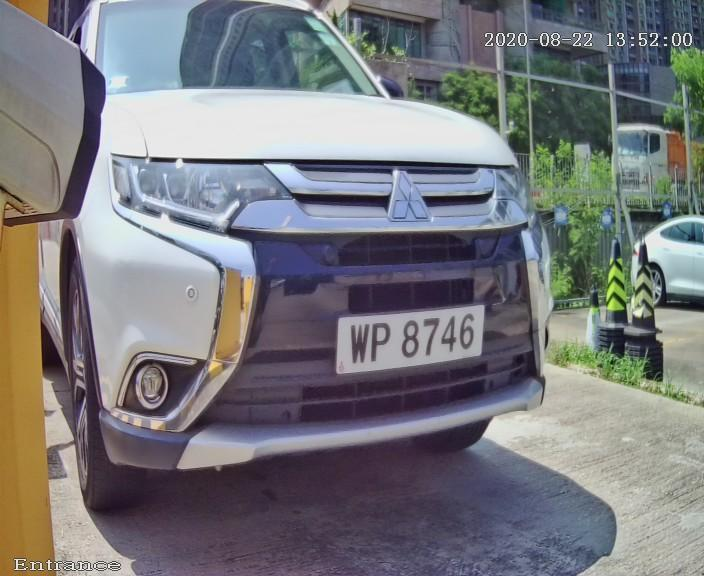Car: (26, 8, 588, 523)
License Plate: (305, 283, 530, 391)
